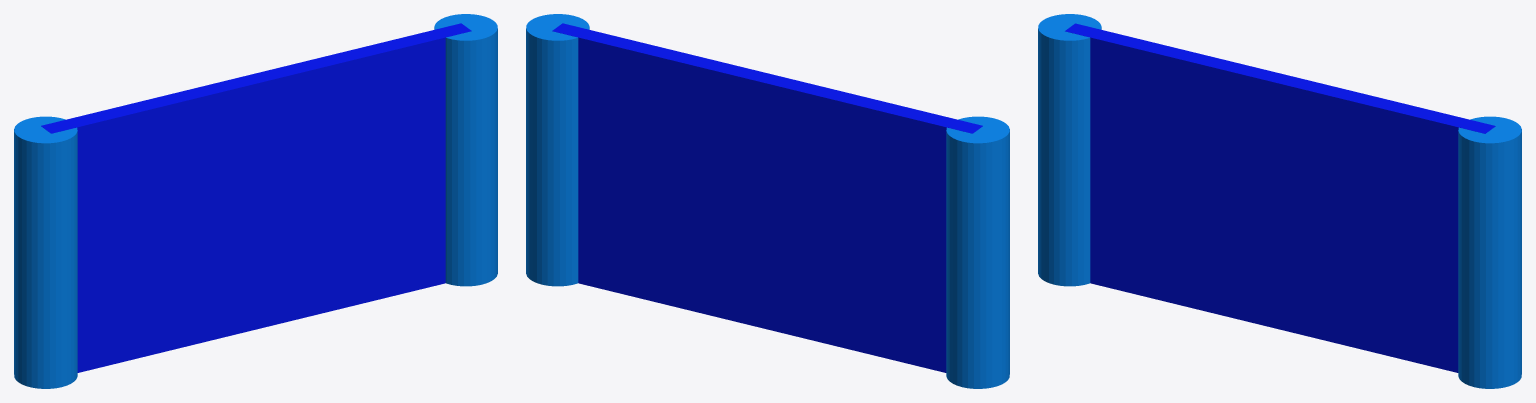
File: murret.obj
3 renders of one model, left to right at view 1: azimuth 30°, elevation 25°; view 2: azimuth 150°, elevation 25°; view 3: azimuth 330°, elevation 25°, orthographic.
Visible parts, largest first — view 1: Cube, Cylinder, Cylinder.001; view 2: Cube, Cylinder, Cylinder.001; view 3: Cube, Cylinder.001, Cylinder.
Boxes of the visible parts, x1,y1,x2,y2 form: Cube: [41, 23, 471, 372]; Cylinder: [14, 116, 77, 388]; Cylinder.001: [434, 14, 497, 286]; Cube: [552, 23, 982, 372]; Cylinder: [946, 116, 1009, 388]; Cylinder.001: [526, 14, 589, 286]; Cube: [1065, 23, 1495, 372]; Cylinder.001: [1458, 116, 1521, 388]; Cylinder: [1038, 14, 1101, 286].
Size of the model in its own units: 6.91 by 3.42 by 0.8.
Materials: 2 (2 with a texture image).
